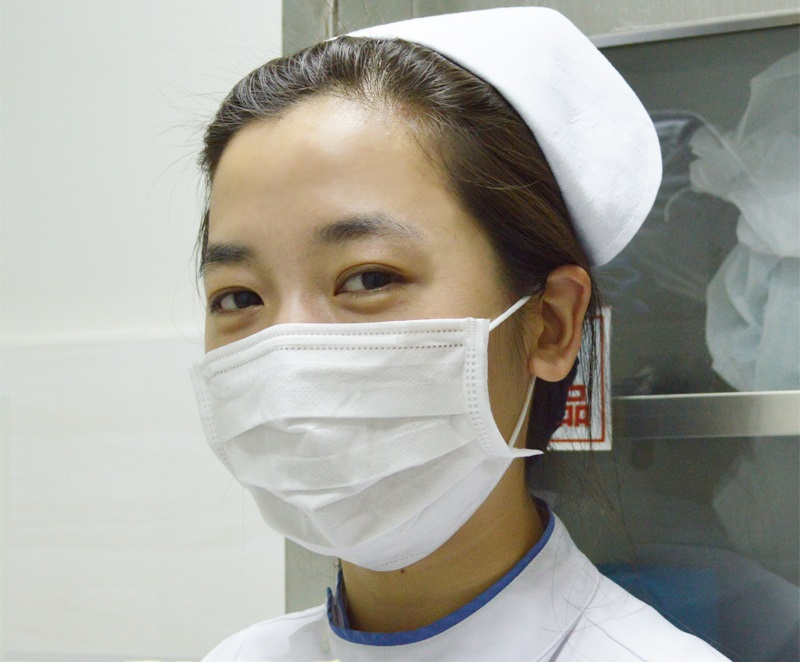face_mask: (188, 121, 513, 538)
